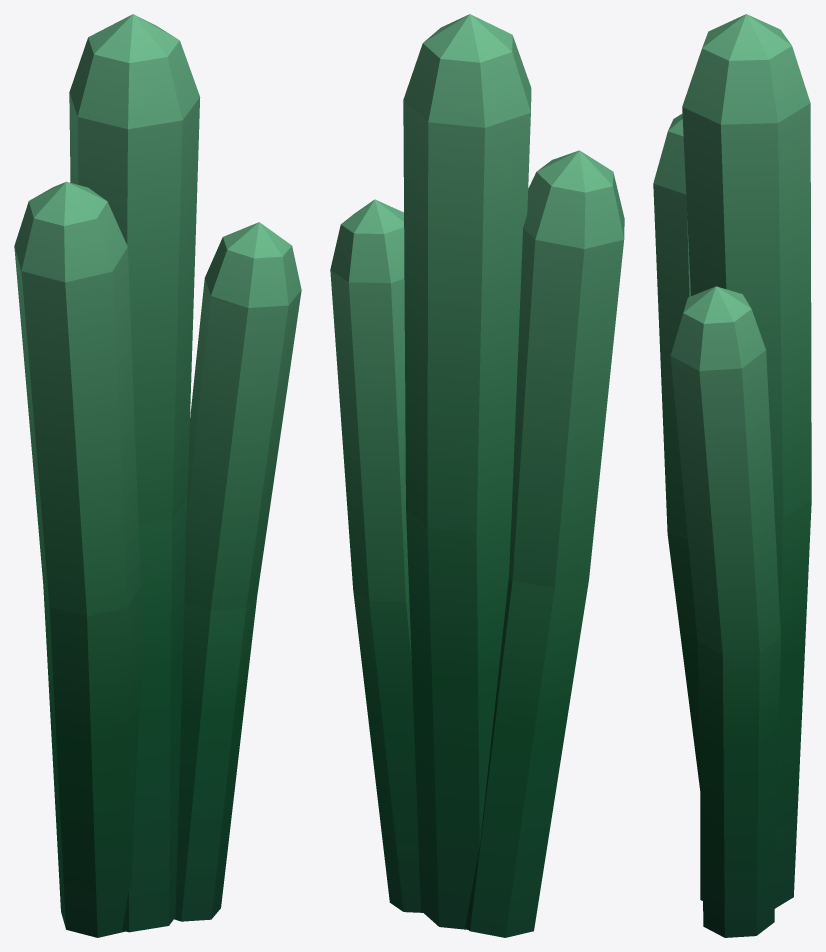
Rendered from Desert_Plant_03_Small_0_1.fbx.
The picture shows the model from 3 angles, left to right: view 1: azimuth 30°, elevation 25°; view 2: azimuth 150°, elevation 25°; view 3: azimuth 270°, elevation 25°; orthographic projection.
Visible parts, largest first — view 1: cactus-basic.001; view 2: cactus-basic.001; view 3: cactus-basic.001.
Part boxes in pixels (box(x1,y1,x2,y2)): cactus-basic.001: box(14, 14, 301, 937); cactus-basic.001: box(330, 14, 624, 937); cactus-basic.001: box(653, 14, 811, 937).
Bounding box in the file's own units: 155 × 487 × 78.12.
